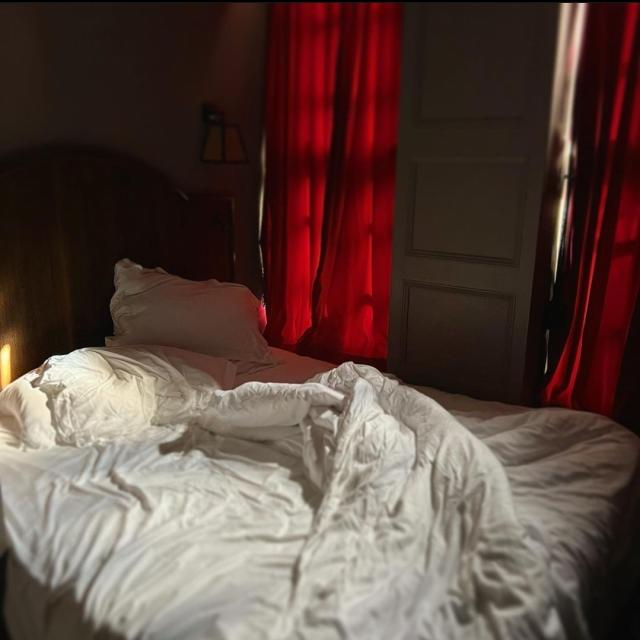bed: (0, 241, 618, 640)
